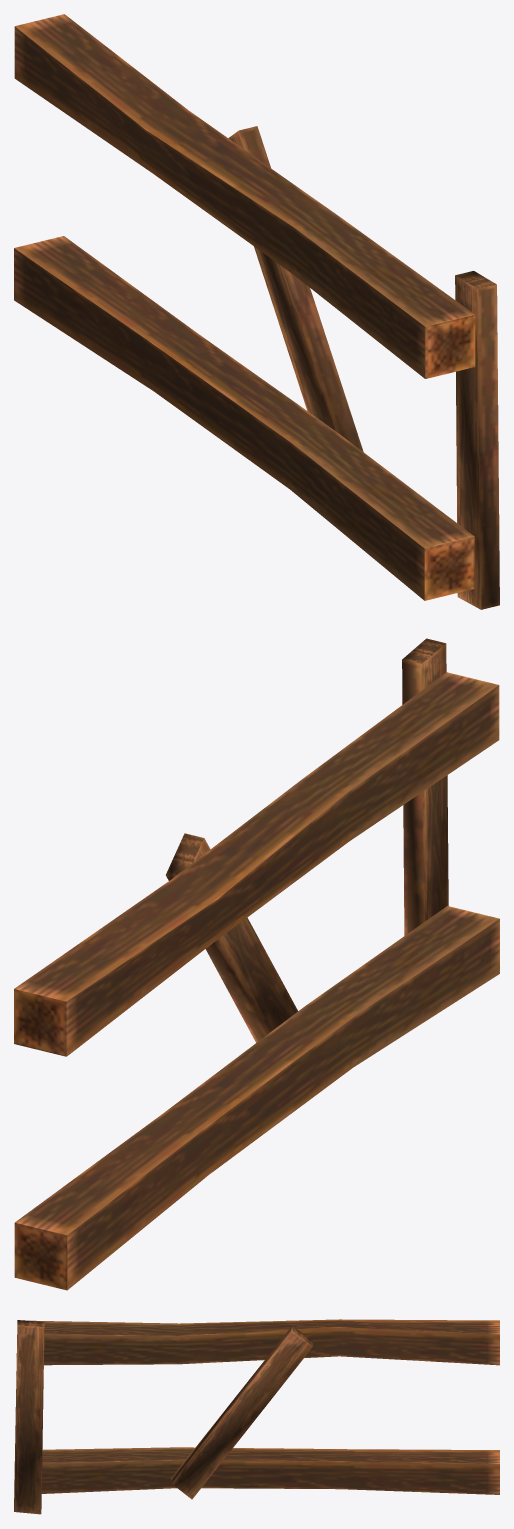
Rendered from INST_SWORDLIGHT_SCFLDNGM.fbx.
The picture shows the model from 3 angles, top to bottom: view 1: azimuth 30°, elevation 25°; view 2: azimuth 150°, elevation 25°; view 3: azimuth 270°, elevation 25°; orthographic projection. The views are drawn at different scales.
Parts seen in each view (by area): view 1: INST_SWORDLIGHT_SCFLDNGM; view 2: INST_SWORDLIGHT_SCFLDNGM; view 3: INST_SWORDLIGHT_SCFLDNGM.
Part boxes in pixels (x1=…): INST_SWORDLIGHT_SCFLDNGM: x1=14, y1=14, x2=499, y2=609; INST_SWORDLIGHT_SCFLDNGM: x1=14, y1=638, x2=499, y2=1290; INST_SWORDLIGHT_SCFLDNGM: x1=14, y1=1319, x2=499, y2=1514.
Size of the model in its own units: 2145 by 8607 by 20042.
2 materials, 2 textured.
